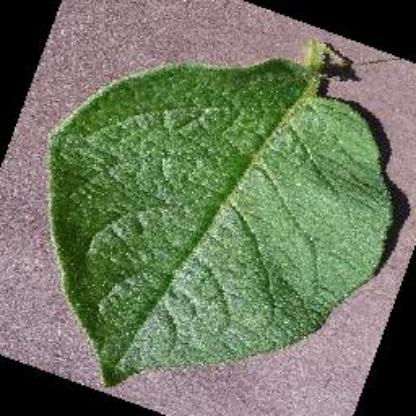Healthy-plant: (46, 43, 394, 387)
